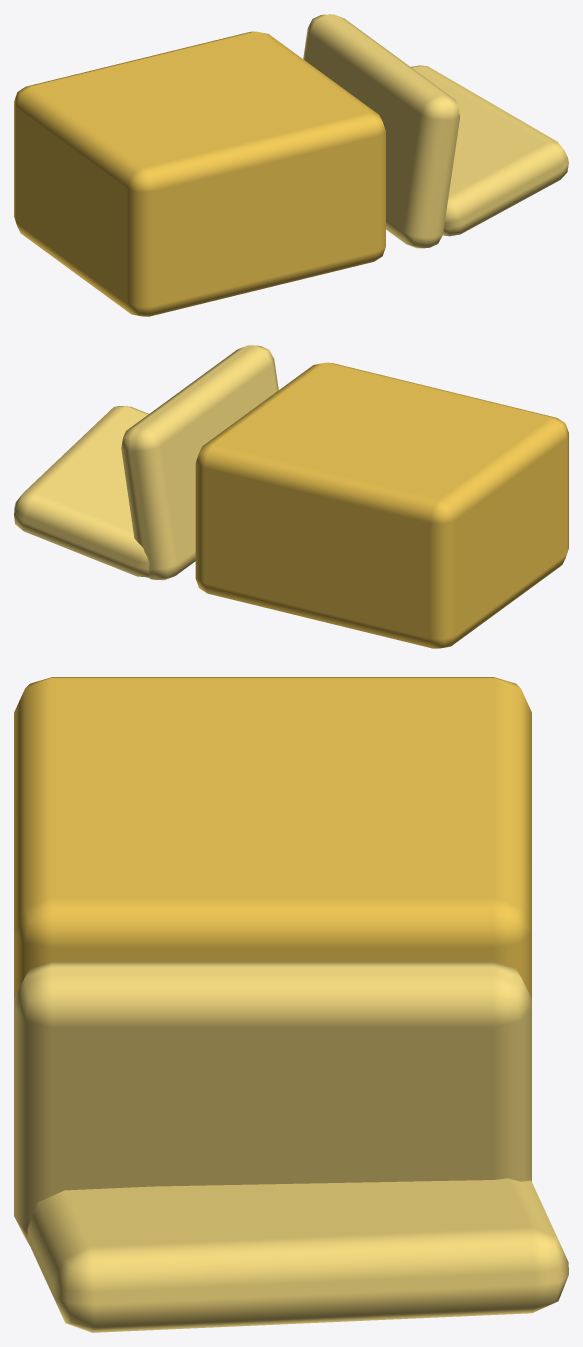
The model's file is Tofu.glb.
3 views of the same model, one above another, from view 1: azimuth 30°, elevation 25°; view 2: azimuth 150°, elevation 25°; view 3: azimuth 270°, elevation 25° (orthographic). The views are drawn at different scales.
Visible parts, largest first — view 1: Tofu; view 2: Tofu; view 3: Tofu.
Boxes of the visible parts, x1,y1,x2,y2 form: Tofu: (14,14,568,316); Tofu: (14,345,568,648); Tofu: (14,677,568,1332).
Bounding box in the file's own units: 0.1642 × 0.052 × 0.0878.
